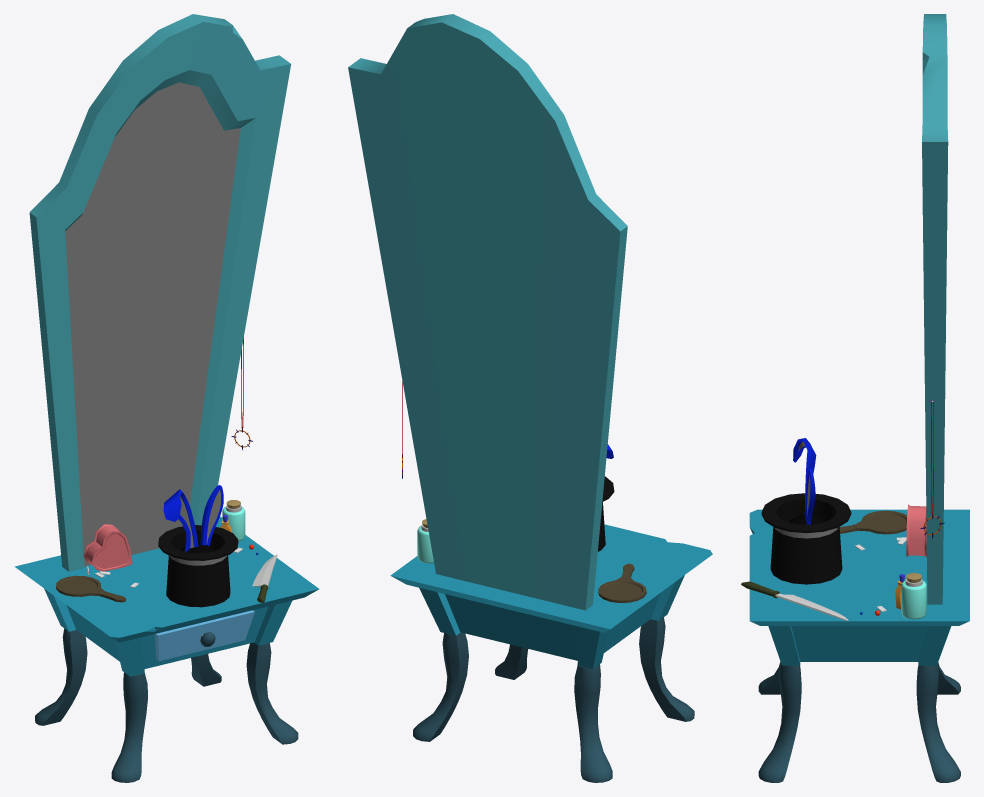
Rendered from Stolik_Alice.fbx.
3 views of the same model, side by side, from view 1: azimuth 30°, elevation 25°; view 2: azimuth 150°, elevation 25°; view 3: azimuth 270°, elevation 25° (orthographic). The views are drawn at different scales.
Visible parts, largest first — view 1: Object006, Box001, Box002, Object, Cylinder006, Object001, Star001, Box016, Cylinder004, Object007; view 2: Box001, Box002, Object, Cylinder004; view 3: Box002, Box001, Object, Cylinder006, Cylinder004, Star001, Cylinder003, Box016, Box003.
Boxes of the visible parts, left/top/right/bottom form: Object006: left=65, top=82, right=240, bottom=566; Box001: left=29, top=14, right=291, bottom=571; Box002: left=15, top=516, right=318, bottom=676; Object: left=35, top=628, right=298, bottom=782; Cylinder006: left=158, top=525, right=238, bottom=607; Object001: left=154, top=610, right=254, bottom=661; Star001: left=83, top=524, right=132, bottom=571; Box016: left=163, top=485, right=223, bottom=551; Cylinder004: left=56, top=575, right=125, bottom=602; Object007: left=180, top=490, right=221, bottom=548; Box001: left=348, top=14, right=627, bottom=610; Box002: left=390, top=524, right=712, bottom=668; Object: left=413, top=617, right=694, bottom=782; Cylinder004: left=598, top=563, right=646, bottom=602; Box002: left=749, top=509, right=969, bottom=665; Box001: left=922, top=14, right=948, bottom=604; Object: left=758, top=662, right=960, bottom=782; Cylinder006: left=761, top=493, right=851, bottom=584; Cylinder004: left=839, top=510, right=906, bottom=534; Star001: left=906, top=504, right=926, bottom=557; Cylinder003: left=901, top=580, right=926, bottom=619; Box016: left=793, top=438, right=816, bottom=524; Box003: left=775, top=593, right=848, bottom=621.
Bounding box in the file's own units: 61.41 × 154 × 42.99.
